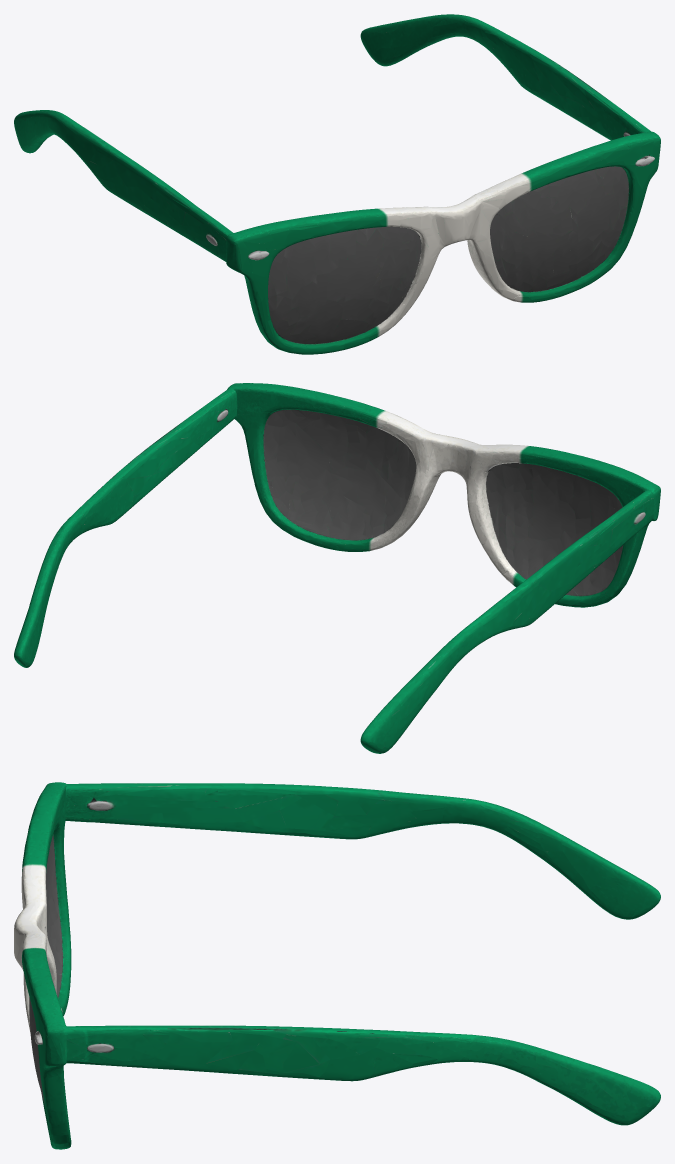
File: wayfarer-nigeria.glb
3 views of the same model, one above another, from view 1: azimuth 30°, elevation 25°; view 2: azimuth 150°, elevation 25°; view 3: azimuth 270°, elevation 25° (orthographic). The views are drawn at different scales.
Parts seen in each view (by area): view 1: Mesh_0; view 2: Mesh_0; view 3: Mesh_0.
Part boxes in pixels (x1=…): Mesh_0: x1=14, y1=14, x2=660, y2=354; Mesh_0: x1=14, y1=383, x2=660, y2=753; Mesh_0: x1=14, y1=782, x2=660, y2=1149.
Bounding box in the file's own units: 14.5 × 4.61 × 15.88.
1 material, 1 textured.
